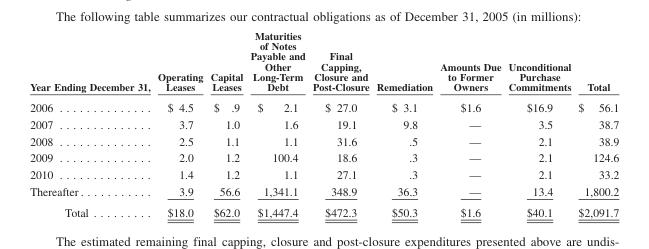table: (29, 28, 618, 218)
table column: (29, 28, 153, 218), (504, 28, 574, 218), (435, 28, 504, 218), (308, 28, 372, 218), (372, 28, 435, 218), (246, 28, 308, 218), (153, 28, 206, 218), (574, 28, 618, 218), (206, 28, 246, 218)
table column header: (29, 28, 618, 96)
table row: (29, 28, 618, 96), (29, 96, 618, 115), (29, 182, 618, 201), (29, 115, 618, 132), (29, 148, 618, 165), (29, 165, 618, 182), (29, 201, 618, 218), (29, 132, 618, 148)
